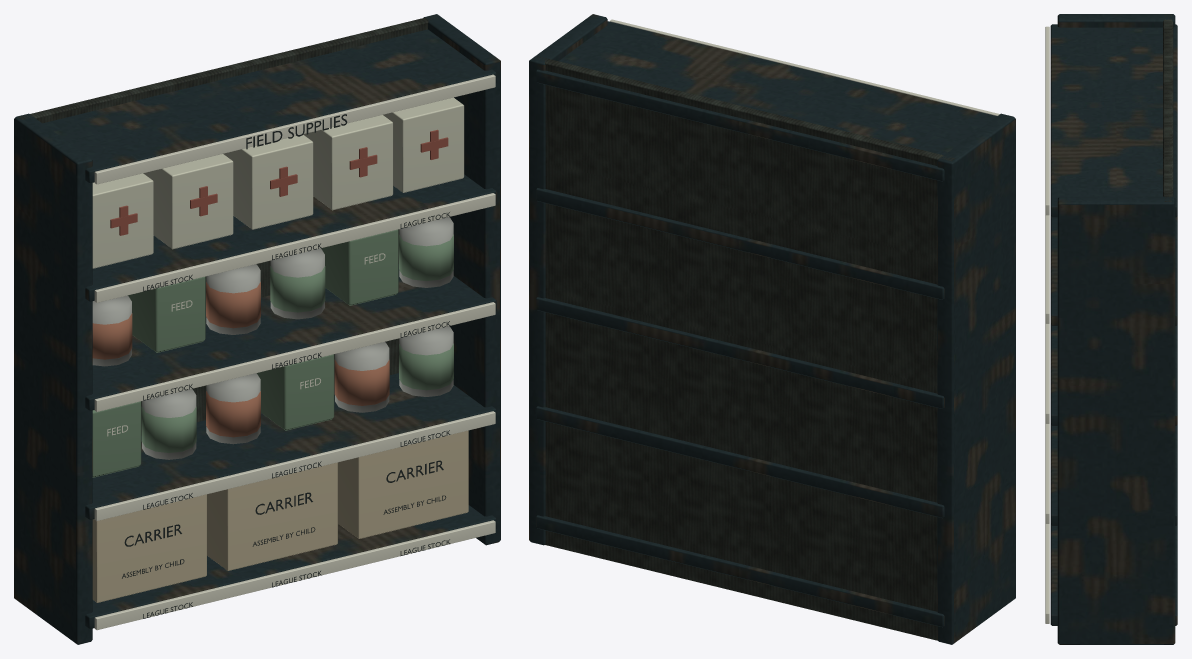
Rendered from corner-shop-shelf.glb.
3 views of the same model, side by side, from view 1: azimuth 30°, elevation 25°; view 2: azimuth 150°, elevation 25°; view 3: azimuth 270°, elevation 25° (orthographic). The views are drawn at different scales.
Parts seen in each view (by area): view 1: Authored Faded harbour paint, Authored card, Authored medical, Authored paper, Authored rationgreen, Authored tin, Authored rationred, Authored Salt worn timber grain, Authored black, Authored red; view 2: Authored Salt worn timber grain, Authored Faded harbour paint, Authored paper; view 3: Authored Faded harbour paint, Authored paper, Authored Salt worn timber grain.
Part boxes in pixels (x1,y1,x2,y2): Authored Faded harbour paint: [14, 14, 500, 644]; Authored card: [92, 430, 468, 602]; Authored medical: [92, 97, 464, 268]; Authored paper: [94, 74, 495, 630]; Authored rationgreen: [92, 229, 453, 477]; Authored tin: [92, 217, 453, 459]; Authored rationred: [92, 282, 389, 437]; Authored Salt worn timber grain: [18, 15, 437, 435]; Authored black: [122, 114, 450, 618]; Authored red: [110, 129, 448, 235]; Authored Salt worn timber grain: [535, 56, 955, 640]; Authored Faded harbour paint: [529, 14, 1015, 644]; Authored paper: [609, 19, 999, 115]; Authored Faded harbour paint: [1050, 14, 1177, 644]; Authored paper: [1045, 26, 1049, 623]; Authored Salt worn timber grain: [1163, 14, 1173, 201].
Size of the model in its own units: 1.92 by 2.08 by 0.567.
10 materials, 2 textured.
